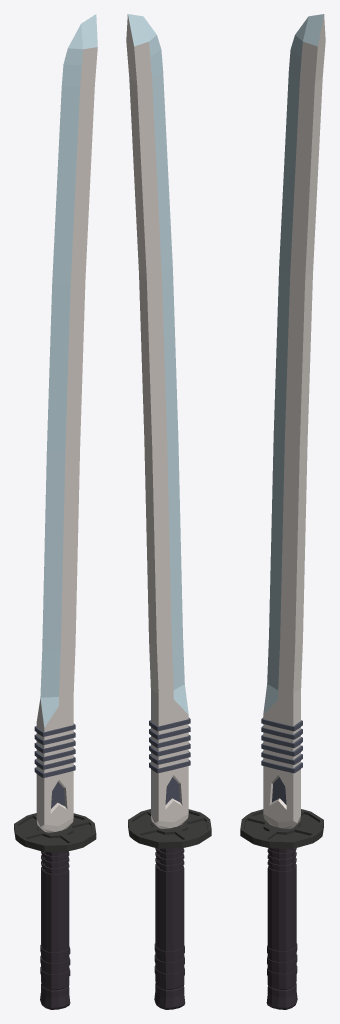
File: katana.fbx
The picture shows the model from 3 angles, left to right: view 1: azimuth 30°, elevation 25°; view 2: azimuth 210°, elevation 25°; view 3: azimuth 330°, elevation 25°; orthographic projection. The views are drawn at different scales.
Visible parts, largest first — view 1: Katana; view 2: Katana; view 3: Katana.
Boxes of the visible parts, box(x1,y1,x2,y2) form: Katana: box(14, 14, 97, 1009); Katana: box(126, 14, 211, 1009); Katana: box(240, 14, 325, 1009).
Size of the model in its own units: 105 by 1279 by 96.81.
